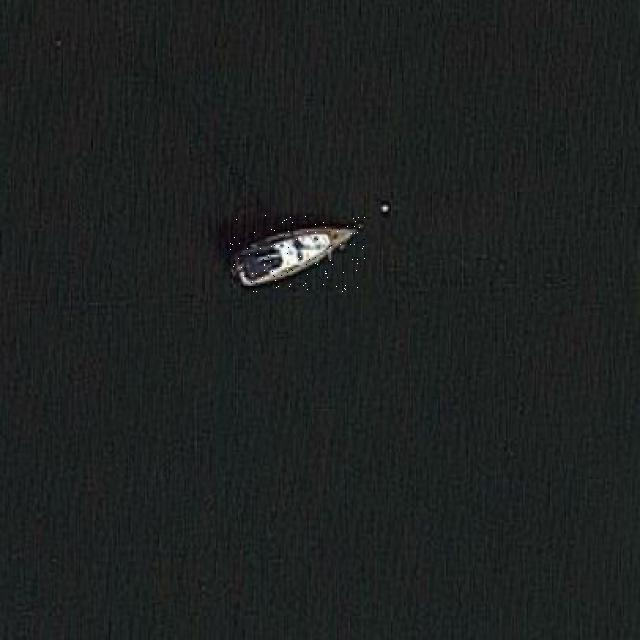boat: (227, 214, 366, 293)
